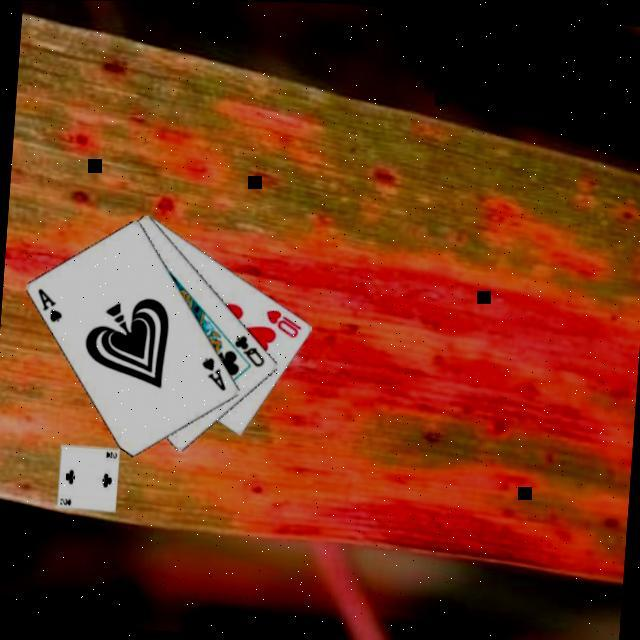10H: (258, 307, 302, 342)
AS: (194, 354, 230, 394), (30, 286, 66, 326)
QC: (227, 332, 267, 372)
